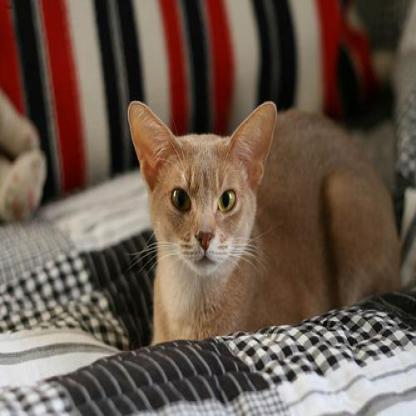cat: (126, 100, 402, 343)
